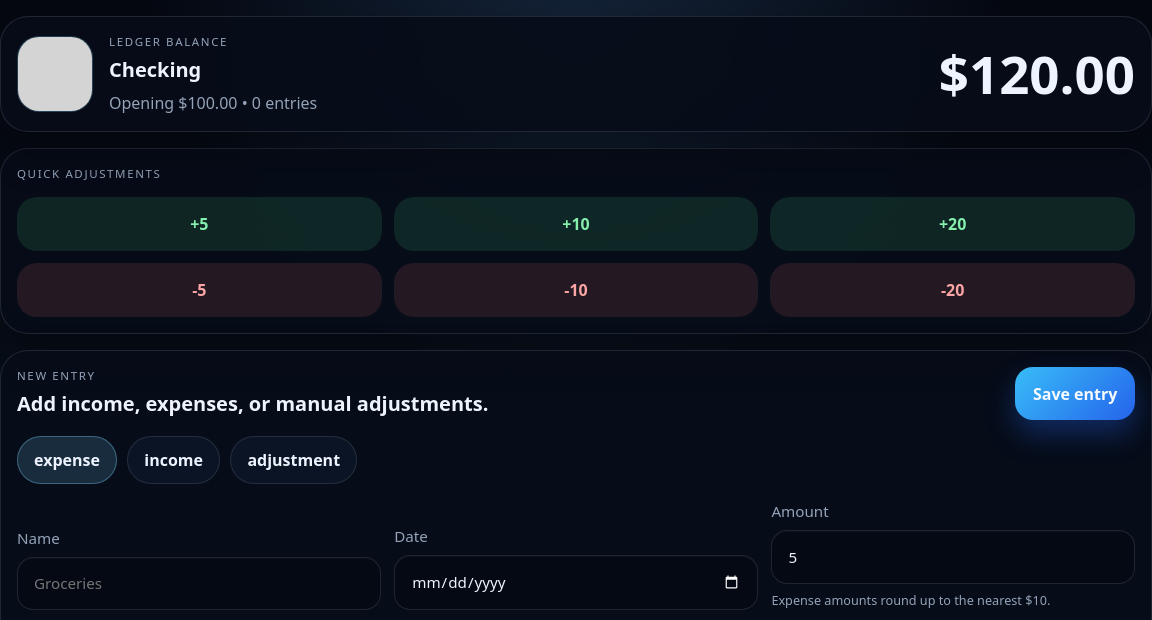
Scenario: AccountDetailPage › uses the account override when rounding entry amounts
The image size is (1152, 620).
In the number field labelled "Amount Expense amounts round up to the nearest $10.": (953, 557) top-left (771, 530), bottom-right (1135, 584), type "21"
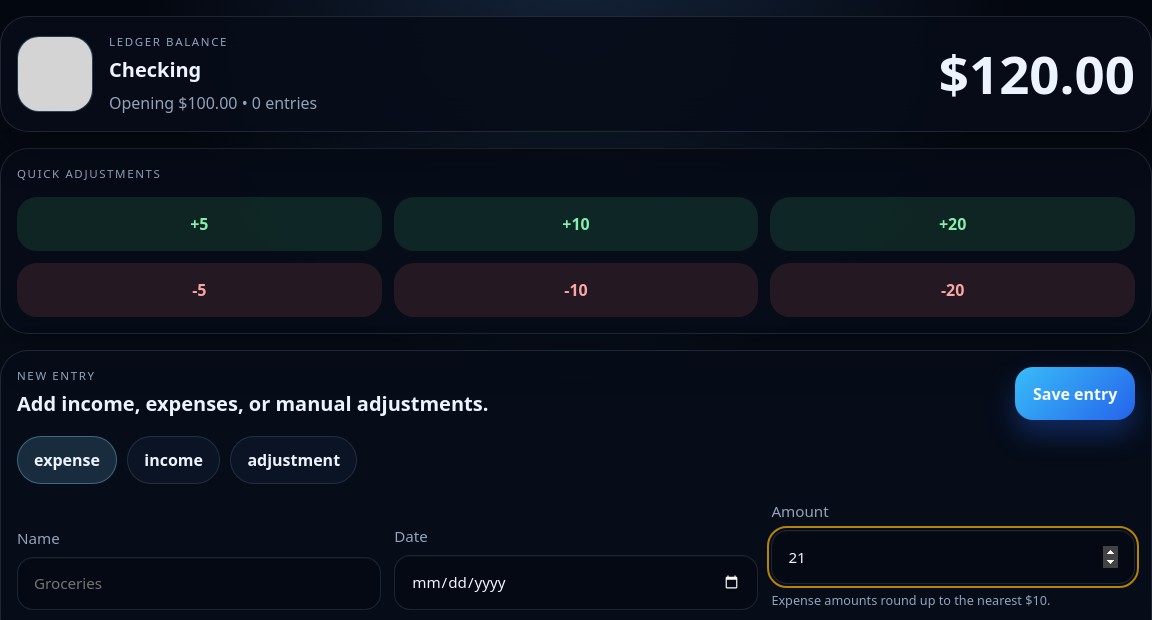
Press Tab
(page scrolled)
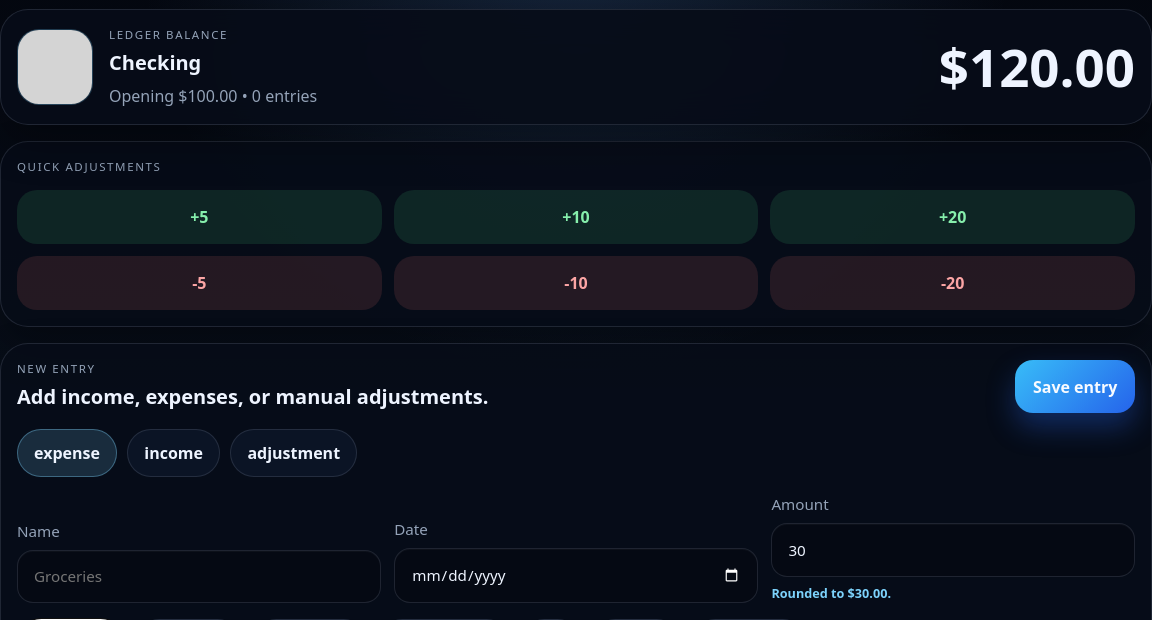
Check: the number field labelled "Amount Rounded to $30.00." holds "30", box top-left (771, 523), bottom-right (1135, 577)
Check: the text "Rounded to $30.00." is shown, box top-left (771, 584), bottom-right (891, 602)
